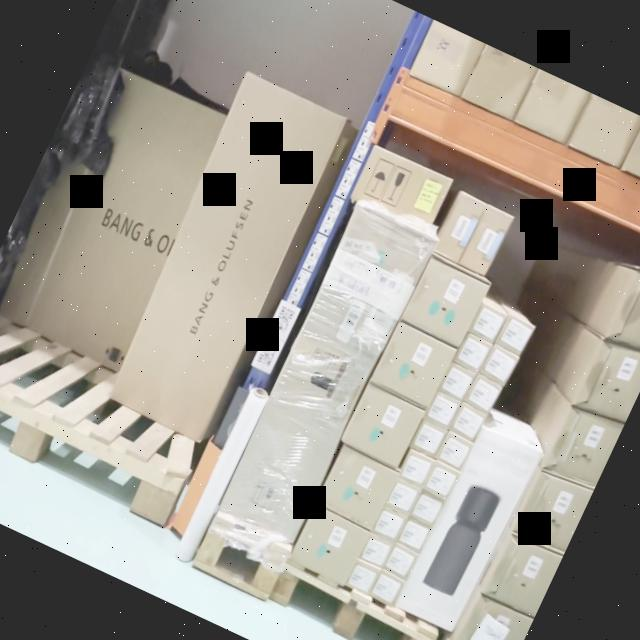box: (110, 73, 345, 443), (216, 205, 434, 542), (0, 60, 228, 373), (394, 427, 542, 631), (352, 146, 452, 230), (402, 256, 489, 347), (371, 323, 456, 409), (340, 384, 424, 468), (317, 446, 400, 530), (481, 534, 563, 618), (511, 471, 594, 552), (542, 408, 624, 486), (290, 507, 370, 584), (571, 339, 640, 422), (458, 205, 514, 277), (434, 191, 485, 262), (456, 596, 533, 640), (604, 269, 640, 349), (422, 460, 461, 501), (409, 418, 448, 458), (496, 315, 534, 355), (435, 431, 473, 471), (464, 374, 501, 415), (454, 333, 492, 372), (449, 403, 487, 442), (469, 303, 506, 343), (480, 346, 518, 384), (386, 478, 422, 517), (369, 569, 405, 608), (440, 362, 476, 400), (383, 542, 419, 580), (424, 392, 460, 429), (398, 450, 434, 487), (346, 558, 381, 596), (409, 490, 444, 527), (397, 517, 431, 554), (360, 532, 394, 568), (373, 508, 408, 540)
